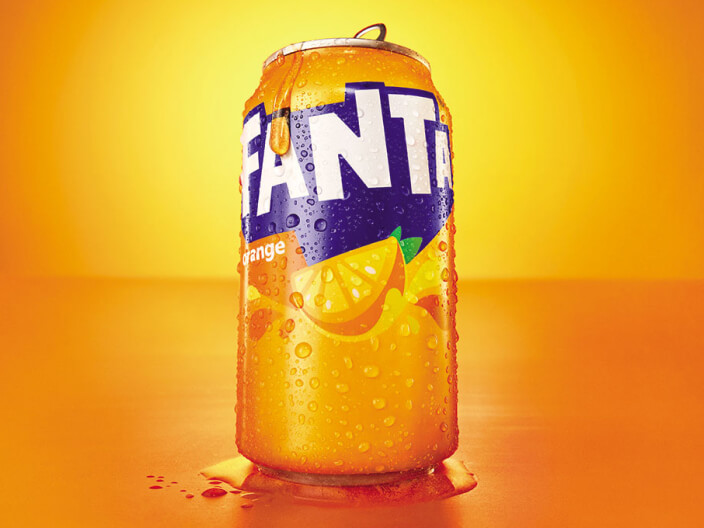can: (230, 18, 469, 486)
